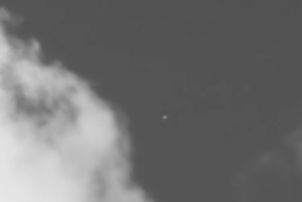Target: (163, 116, 166, 118)
